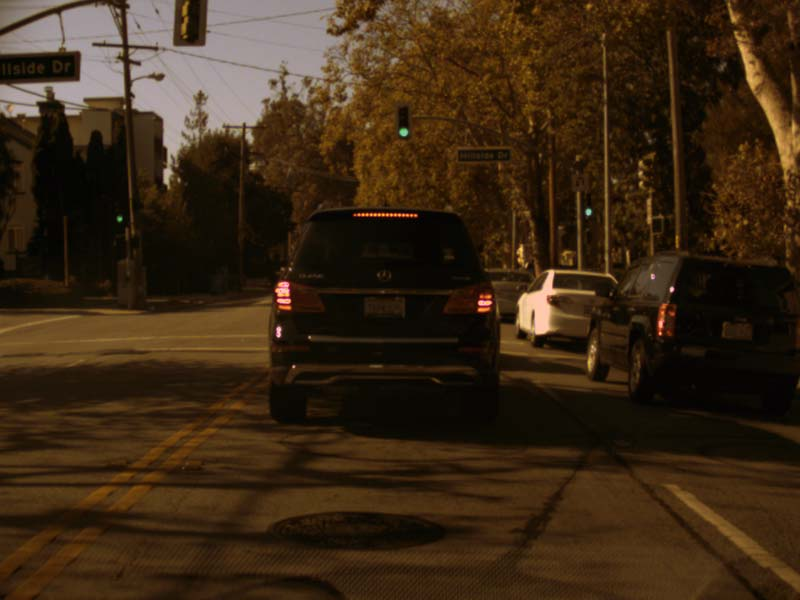Green: (396, 106, 410, 138), (581, 194, 593, 219), (113, 201, 124, 224)
